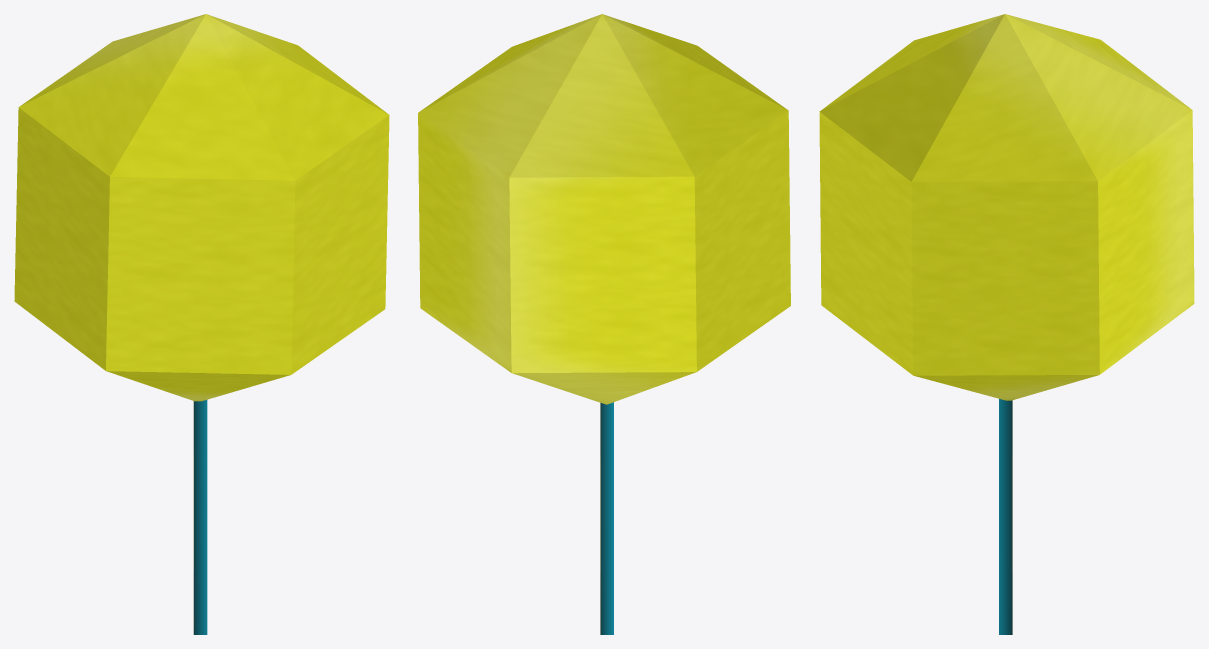
3 renders of one model, left to right at view 1: azimuth 30°, elevation 25°; view 2: azimuth 150°, elevation 25°; view 3: azimuth 270°, elevation 25°, orthographic.
Parts seen in each view (by area): view 1: Sphere01; view 2: Sphere01; view 3: Sphere01.
Boxes of the visible parts, x1=… form: Sphere01: x1=14, y1=14, x2=389, y2=634; Sphere01: x1=418, y1=14, x2=790, y2=634; Sphere01: x1=819, y1=14, x2=1194, y2=634.
Size of the model in its own units: 653 by 1364 by 745.
1 material, 1 textured.
